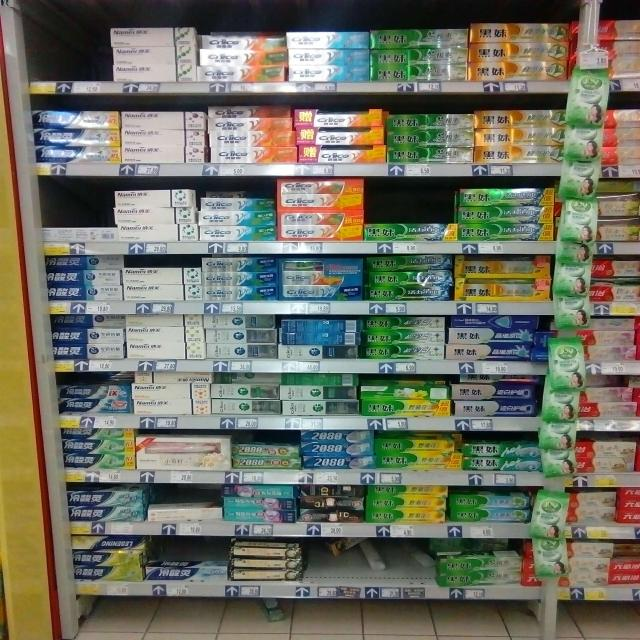empty: (18, 15, 112, 84)
